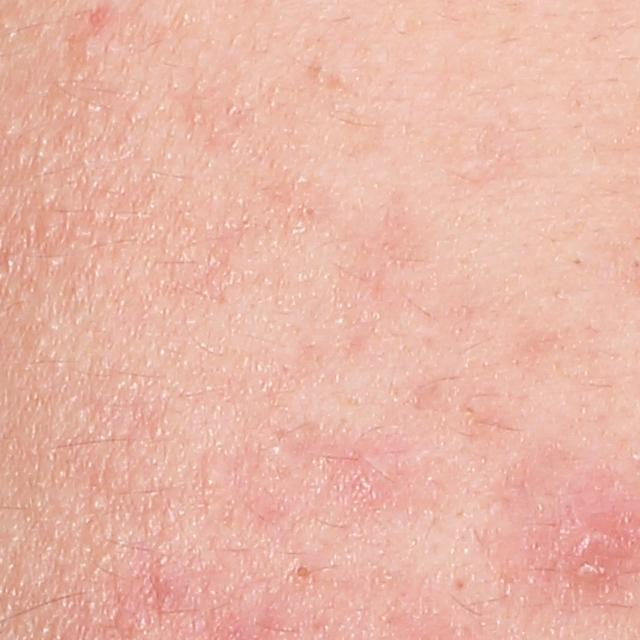comedo: (292, 563, 311, 583)
